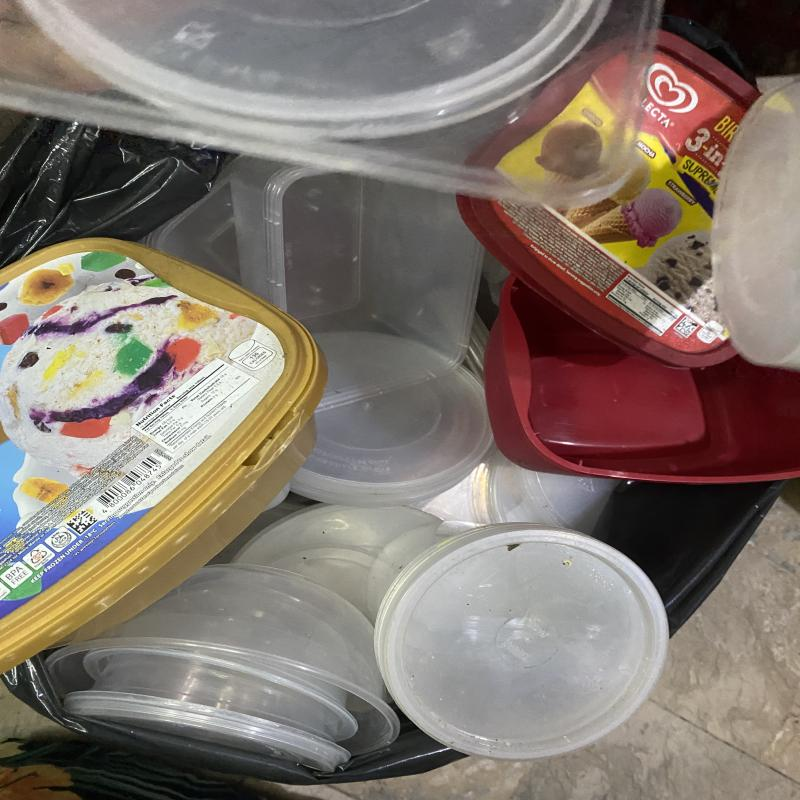plastic container: (0, 239, 326, 682), (0, 0, 664, 211), (454, 31, 760, 369), (45, 565, 401, 772), (372, 531, 672, 763), (483, 275, 800, 486), (229, 157, 484, 409), (289, 329, 495, 509), (230, 506, 481, 624), (708, 76, 800, 375), (132, 183, 248, 286)
